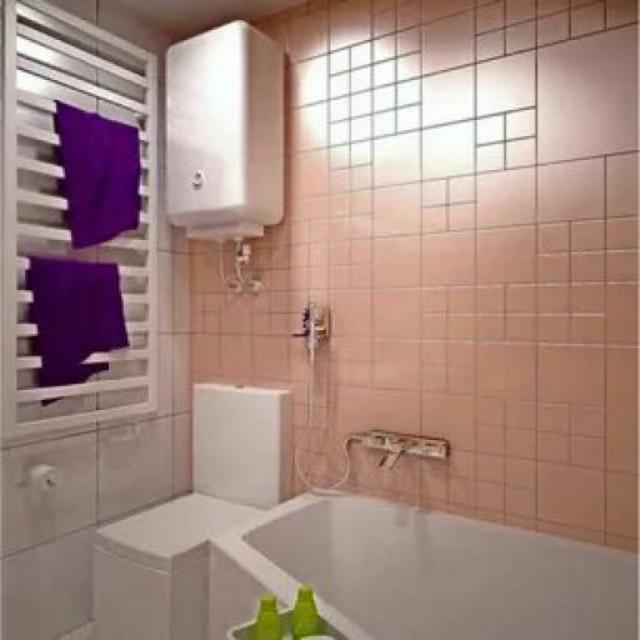Boiler: (166, 26, 282, 262)
